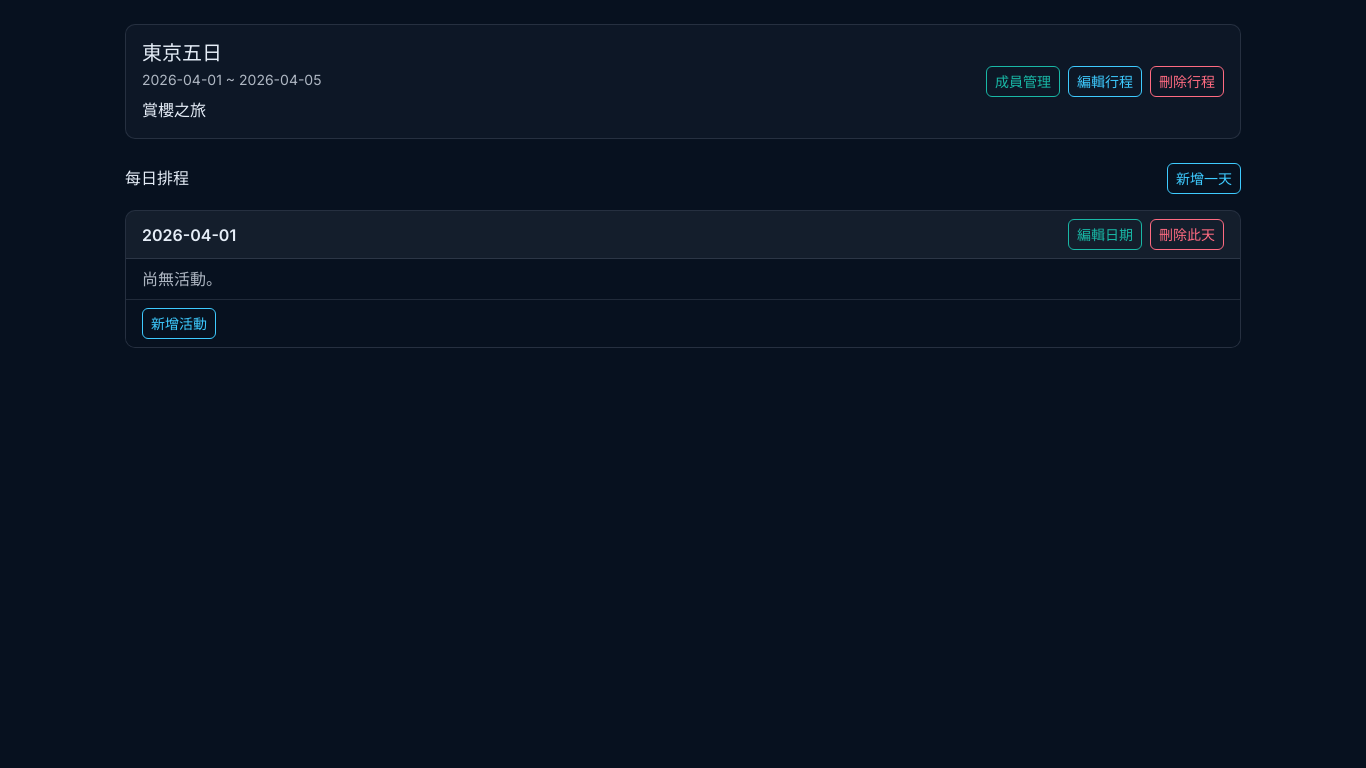
Test: TripDetailPage › 每日排程管理 › 刪除某天後 DELETE 並重取明細
The width and height of the screenshot is (1366, 768).
Click the button "刪除此天" at x=1187, y=234, box top-left (1150, 219), bottom-right (1224, 250)
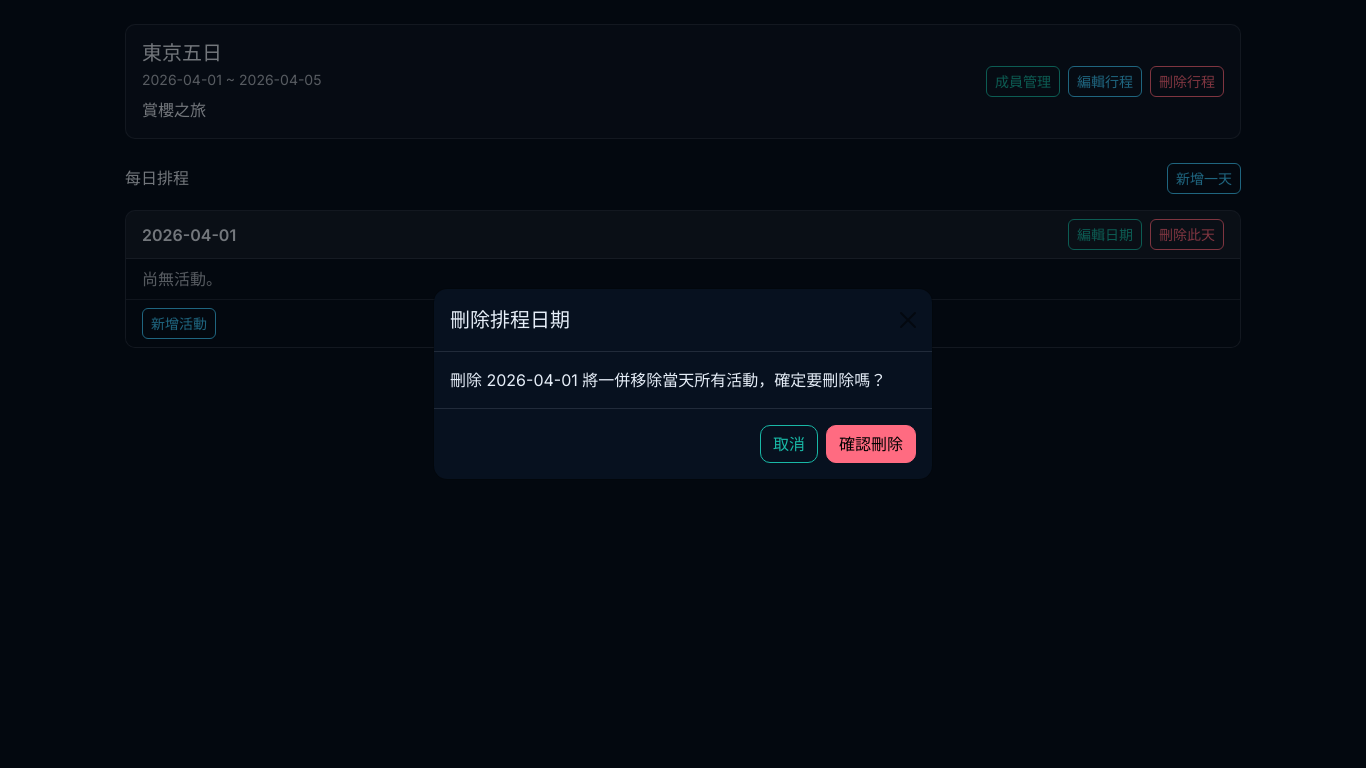
Click the button "確認刪除" at x=871, y=444, box top-left (826, 425), bottom-right (916, 463)
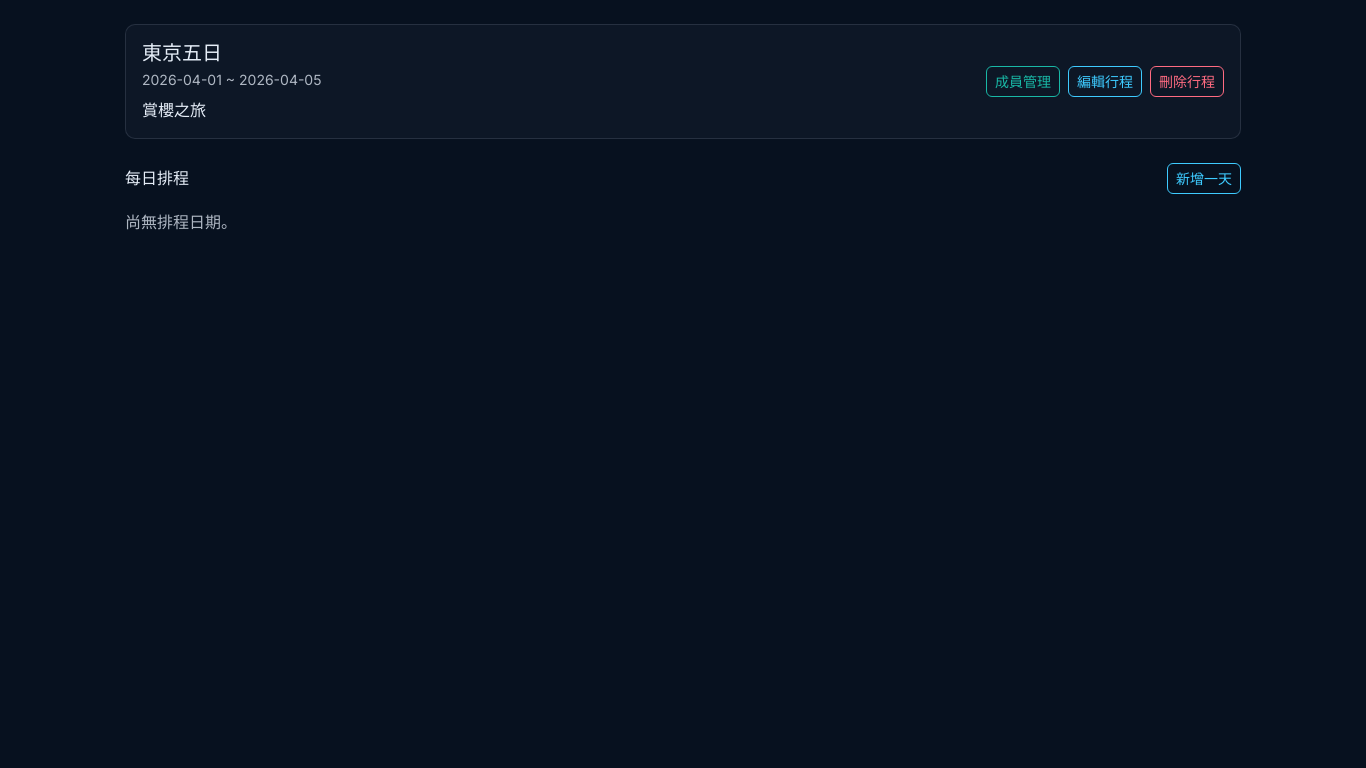
Now no elements with test id "trip-day" are shown
